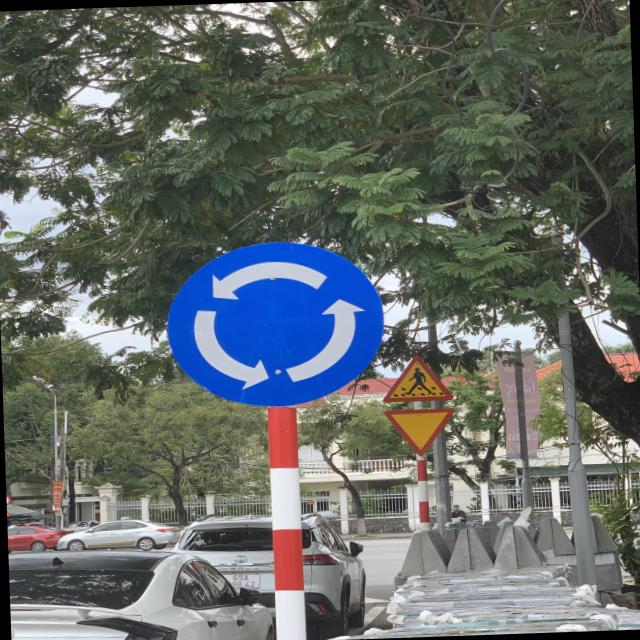Xe_Bus: (164, 235, 392, 410)
